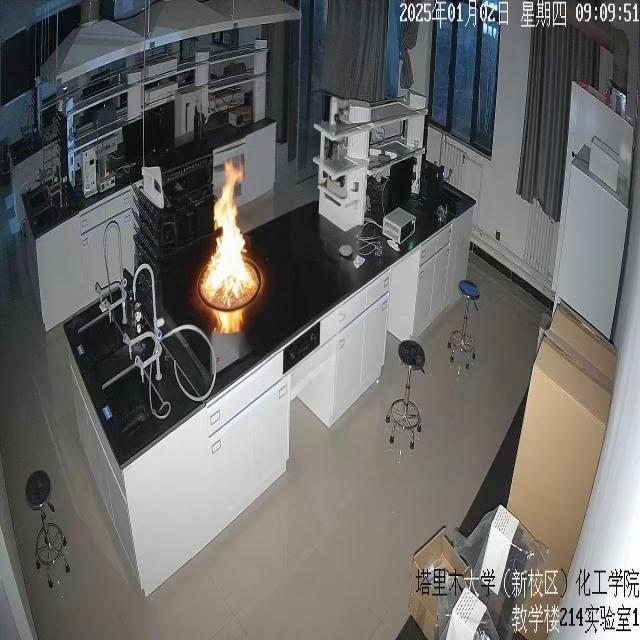smoke: (199, 161, 256, 315)
